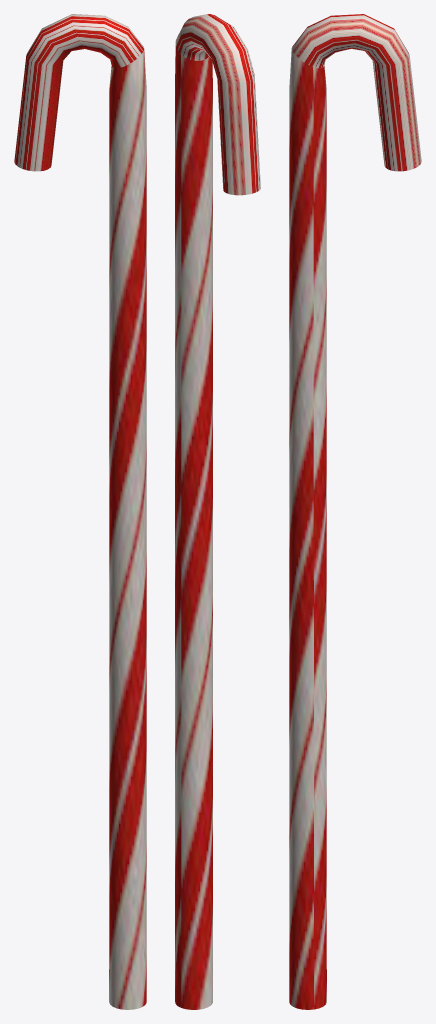
Rendered from CandyCane.fbx.
3 renders of one model, left to right at view 1: azimuth 90°, elevation 25°; view 2: azimuth 210°, elevation 25°; view 3: azimuth 270°, elevation 25°, orthographic.
Visible parts, largest first — view 1: pCylinder1; view 2: pCylinder1; view 3: pCylinder1.
Boxes of the visible parts, <box> form: pCylinder1: <box>14,14,146,1009</box>; pCylinder1: <box>175,14,260,1009</box>; pCylinder1: <box>289,14,421,1009</box>.
Size of the model in its own units: 45.83 by 1327 by 162.
